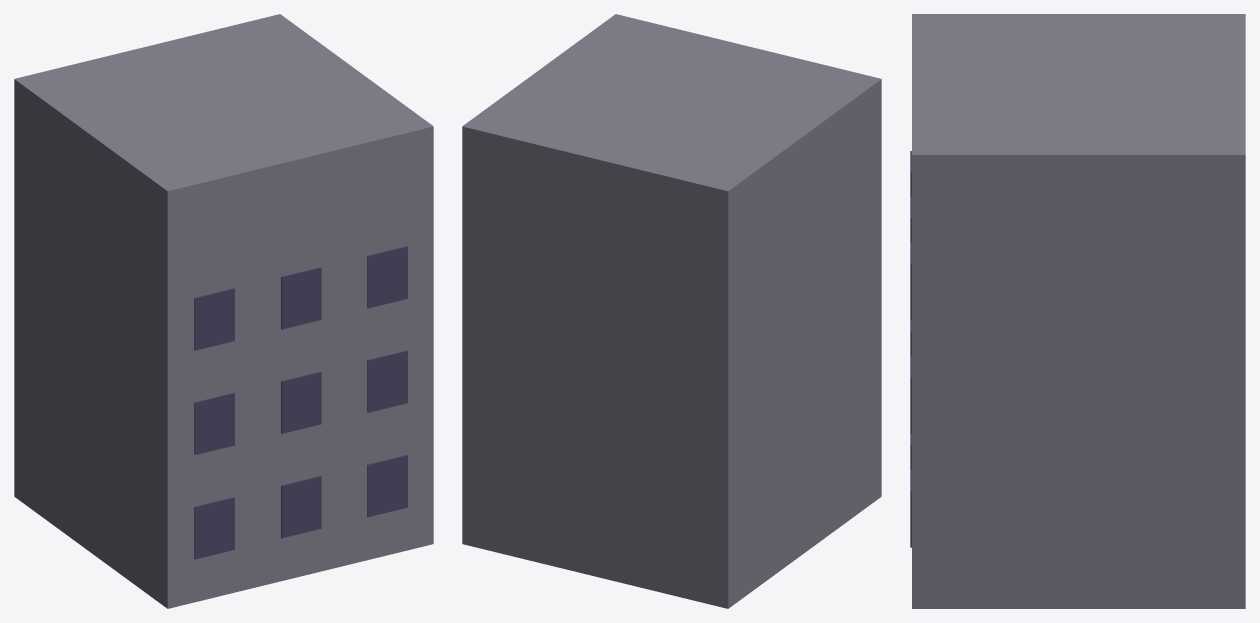
Rendered from distant-building-12m.glb.
The picture shows the model from 3 angles, left to right: view 1: azimuth 30°, elevation 25°; view 2: azimuth 150°, elevation 25°; view 3: azimuth 270°, elevation 25°; orthographic projection. The views are drawn at different scales.
Parts seen in each view (by area): view 1: mass, window (×9); view 2: mass; view 3: mass.
Part boxes in pixels (bbox=[...]): mass: bbox=[14, 14, 433, 608]; window (×9): bbox=[194, 246, 407, 559]; mass: bbox=[462, 14, 881, 608]; mass: bbox=[912, 14, 1245, 608].
Bounding box in the file's own units: 8 × 12 × 8.04.
